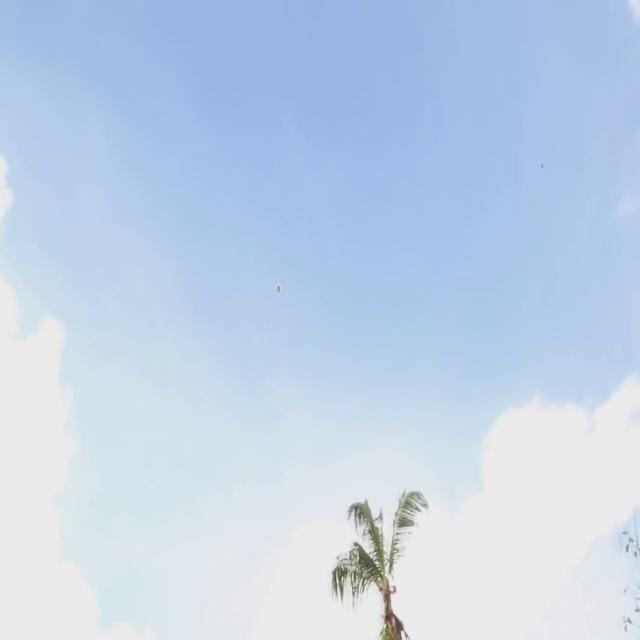drone: (275, 283, 282, 294)
